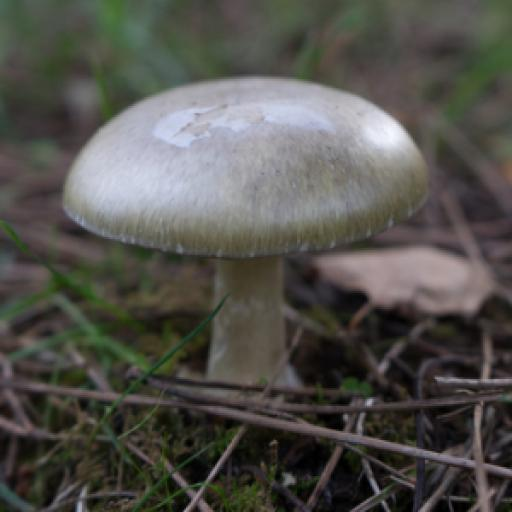mushroom: (23, 0, 453, 410)
